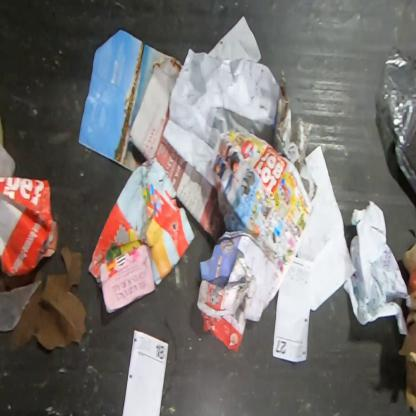cardboard: (87, 157, 196, 314), (0, 176, 60, 277)
soft_plastic: (374, 46, 415, 210)
